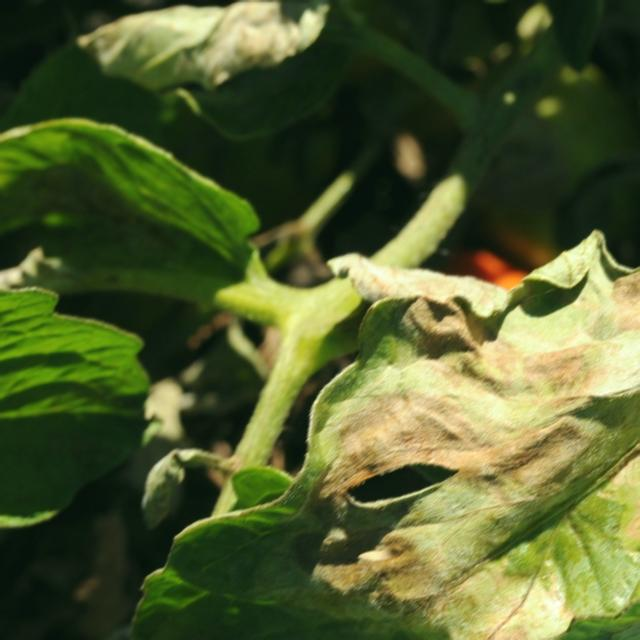Tomato leaf late blight: (152, 218, 640, 640)
